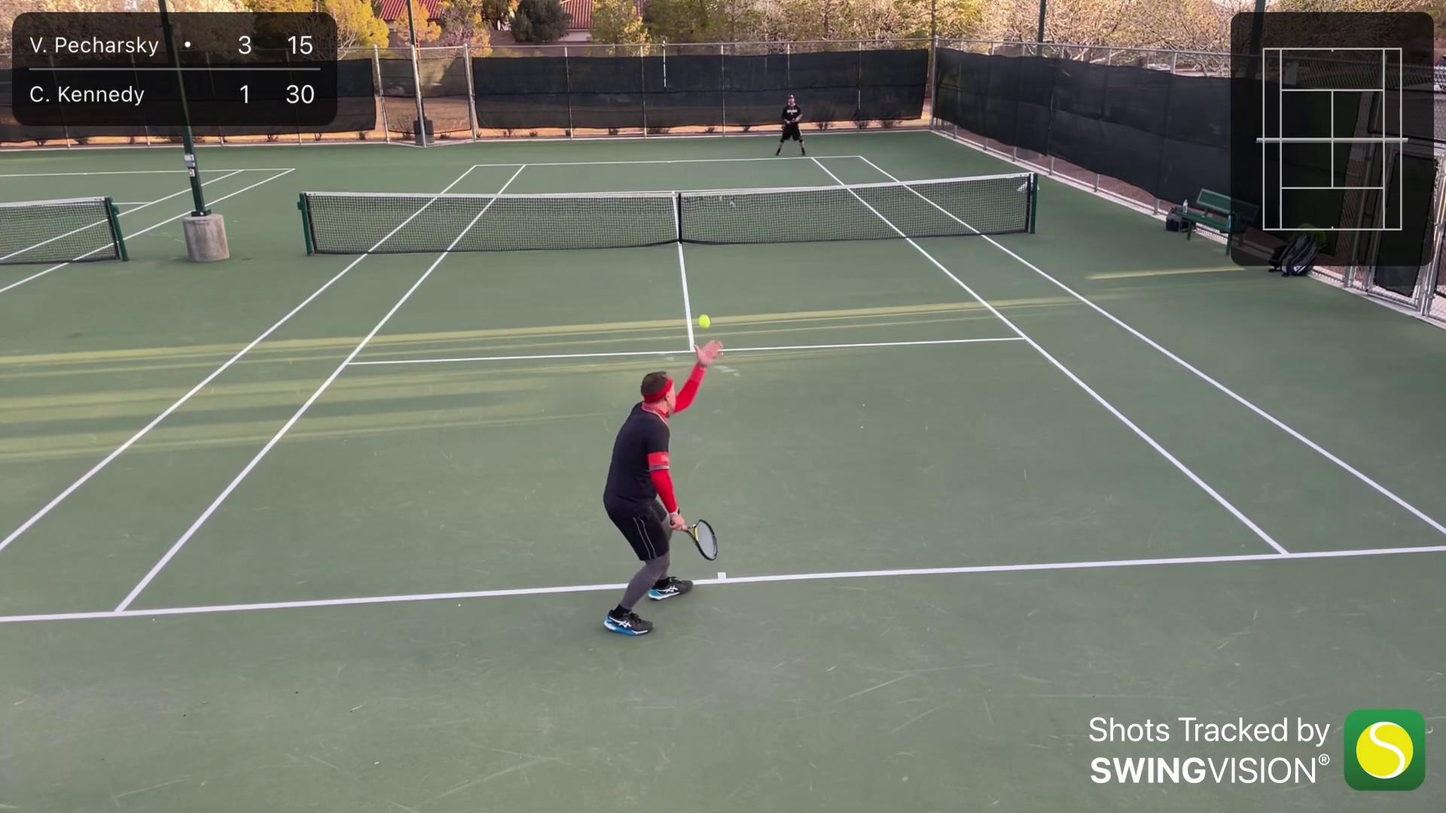ball: (697, 314, 714, 330), (328, 278, 336, 285)
